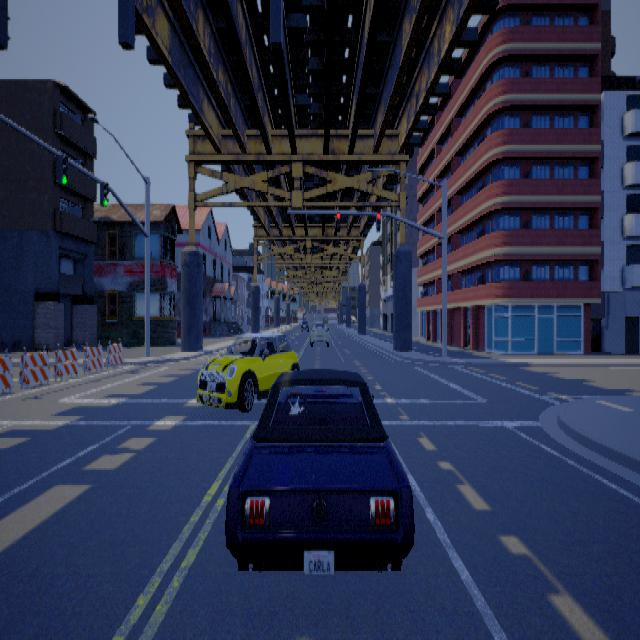green_light: (57, 154, 67, 186), (99, 180, 108, 206)
red_light: (375, 210, 380, 230), (336, 210, 339, 230)
vehicle: (235, 368, 414, 572), (191, 325, 302, 414), (307, 318, 332, 347)
